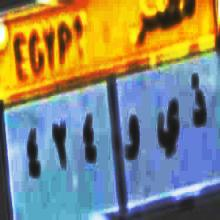2: (52, 117, 68, 176)
4: (81, 115, 98, 170), (25, 127, 40, 183)
waw: (122, 111, 141, 172)
yaa: (154, 92, 181, 170)
zaal: (188, 71, 208, 135)
